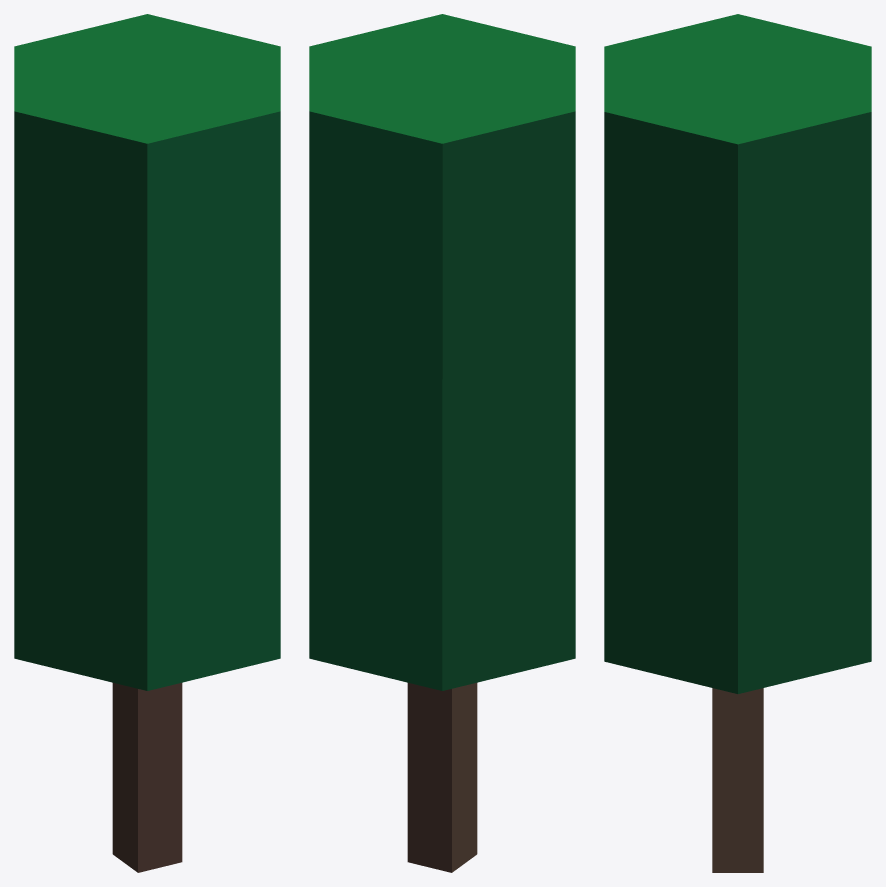
File: TB_CITY_Env_Tree_Hexa_A.FBX
3 renders of one model, left to right at view 1: azimuth 30°, elevation 25°; view 2: azimuth 150°, elevation 25°; view 3: azimuth 270°, elevation 25°, orthographic.
Visible parts, largest first — view 1: TB_CITY_Env_Tree_Hexa_A; view 2: TB_CITY_Env_Tree_Hexa_A; view 3: TB_CITY_Env_Tree_Hexa_A.
Part boxes in pixels (x1,y1,x2,y2): TB_CITY_Env_Tree_Hexa_A: (14,14,280,872); TB_CITY_Env_Tree_Hexa_A: (309,14,575,872); TB_CITY_Env_Tree_Hexa_A: (604,14,871,872).
Size of the model in its own units: 2.16 by 6.05 by 1.87.
